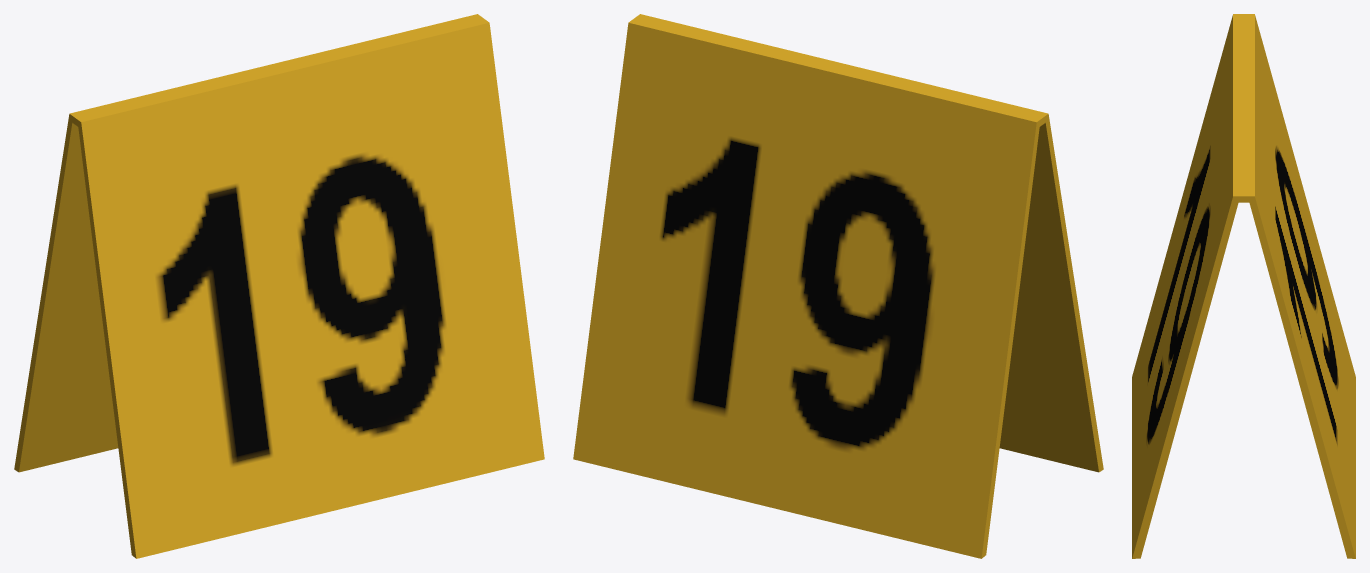
File: card_19.fbx
3 renders of one model, left to right at view 1: azimuth 30°, elevation 25°; view 2: azimuth 150°, elevation 25°; view 3: azimuth 270°, elevation 25°, orthographic. The views are drawn at different scales.
Visible parts, largest first — view 1: card.019; view 2: card.019; view 3: card.019.
Boxes of the visible parts, x1,y1,x2,y2 form: card.019: (14,14,544,558); card.019: (573,14,1103,558); card.019: (1132,14,1355,558).
Size of the model in its own units: 17.94 by 16.63 by 9.3.
